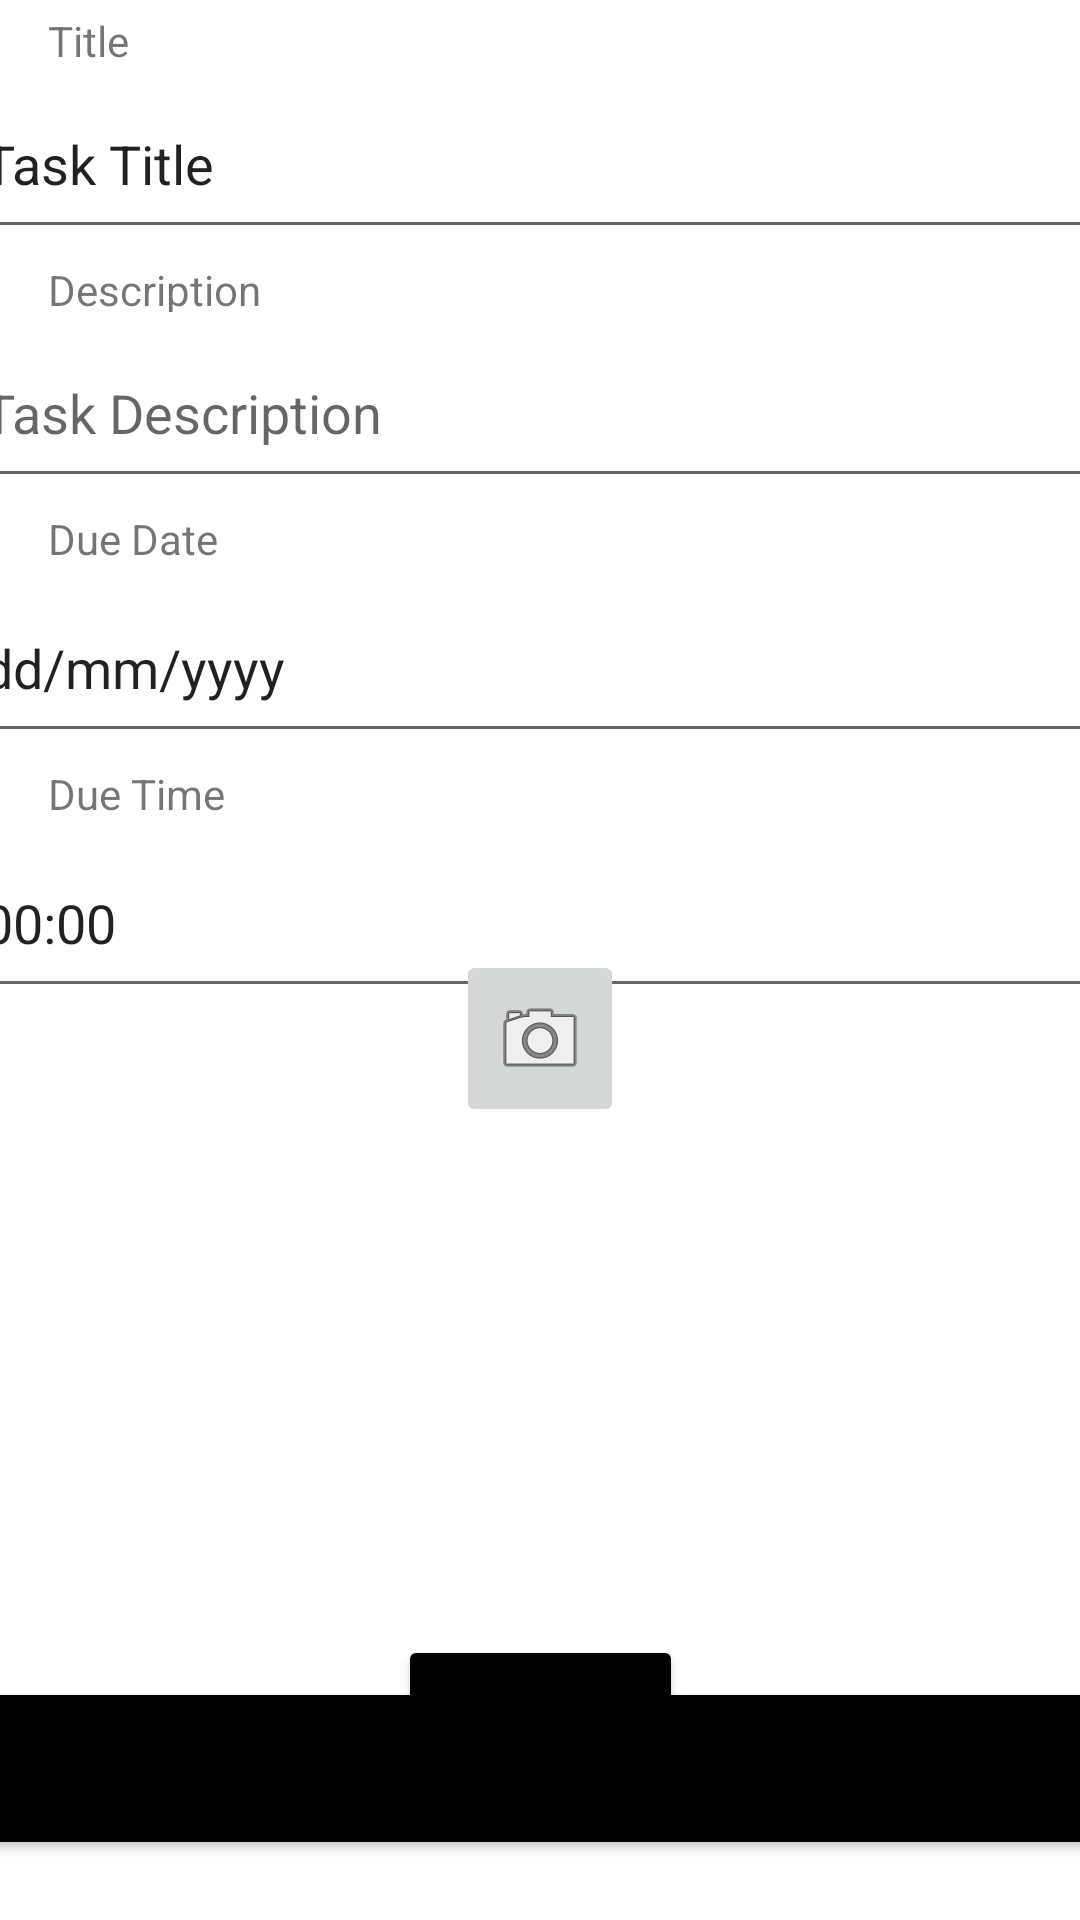

Locate icon controls on the screen. Image size 1080px×1920px, boxes as (left=x1, top=y1, right=x2, bottom=y2).
Take Photo: (left=456, top=968, right=624, bottom=1109)
